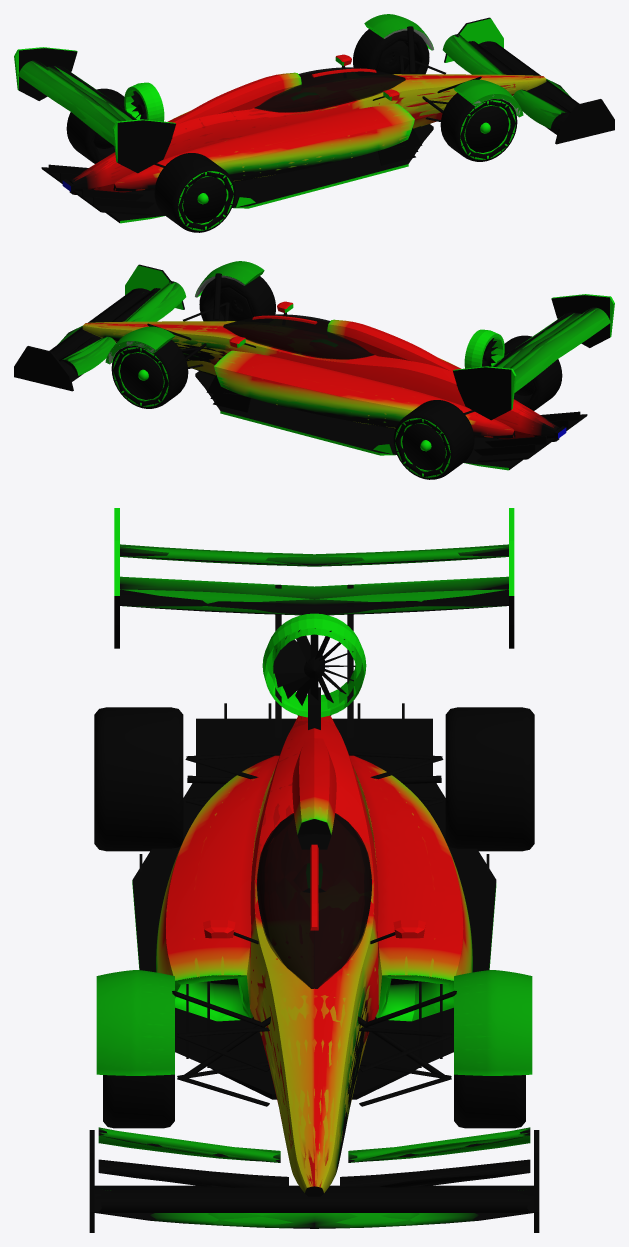
Rendered from tempest.glb.
The picture shows the model from 3 angles, top to bottom: view 1: azimuth 30°, elevation 25°; view 2: azimuth 150°, elevation 25°; view 3: azimuth 270°, elevation 25°; orthographic projection. The views are drawn at different scales.
Visible parts, largest first — view 1: body_L0, body_L2, glass_L0, body_L1, glass_L1, wheel_RR_L0, wheel_RR_L2, wheel_FR_L2, wheel_FL_L0, wheel_FR_L0, wheel_RL_L0, wheel_RR_L1 (+5 smaller); view 2: body_L0, body_L2, glass_L0, glass_L1, body_L1, wheel_RL_L0, wheel_RL_L2, wheel_FL_L2, wheel_FR_L0, wheel_FL_L0, wheel_RR_L0, wheel_RL_L1 (+4 smaller); view 3: body_L0, body_L2, body_L1, glass_L0, glass_L1, wheel_RL_L0, wheel_RR_L0, wheel_FL_L0, wheel_FR_L0, wheel_RL_L1, wheel_RR_L1, glass_L2.
Part boxes in pixels (bbox=[...]): body_L0: bbox=[14, 14, 614, 223]; body_L2: bbox=[19, 25, 579, 194]; glass_L0: bbox=[254, 67, 405, 112]; body_L1: bbox=[23, 14, 571, 193]; glass_L1: bbox=[255, 67, 405, 111]; wheel_RR_L0: bbox=[154, 153, 235, 232]; wheel_RR_L2: bbox=[178, 171, 233, 230]; wheel_FR_L2: bbox=[460, 101, 515, 159]; wheel_FL_L0: bbox=[353, 29, 429, 74]; wheel_FR_L0: bbox=[440, 93, 517, 161]; wheel_RL_L0: bbox=[66, 88, 124, 163]; wheel_RR_L1: bbox=[156, 153, 233, 232]; body_L0: bbox=[14, 261, 614, 470]; body_L2: bbox=[49, 272, 609, 441]; glass_L0: bbox=[223, 314, 373, 359]; glass_L1: bbox=[223, 314, 373, 358]; body_L1: bbox=[57, 261, 609, 441]; wheel_RL_L0: bbox=[393, 400, 474, 479]; wheel_RL_L2: bbox=[395, 418, 450, 477]; wheel_FL_L2: bbox=[113, 348, 168, 406]; wheel_FR_L0: bbox=[199, 276, 275, 321]; wheel_FL_L0: bbox=[111, 340, 188, 408]; wheel_RR_L0: bbox=[504, 335, 562, 410]; wheel_RL_L1: bbox=[395, 400, 472, 479]; body_L0: bbox=[89, 508, 539, 1232]; body_L2: bbox=[95, 546, 533, 1212]; body_L1: bbox=[96, 557, 532, 1228]; glass_L0: bbox=[257, 813, 371, 988]; glass_L1: bbox=[257, 814, 371, 988]; wheel_RL_L0: bbox=[445, 707, 534, 851]; wheel_RR_L0: bbox=[94, 707, 183, 851]; wheel_FL_L0: bbox=[454, 1074, 525, 1128]; wheel_FR_L0: bbox=[103, 1074, 174, 1128]; wheel_RL_L1: bbox=[445, 709, 534, 850]; wheel_RR_L1: bbox=[94, 709, 183, 850]; glass_L2: bbox=[258, 815, 370, 988].
Bounding box in the file's own units: 5.42 × 1.33 × 2.12.
